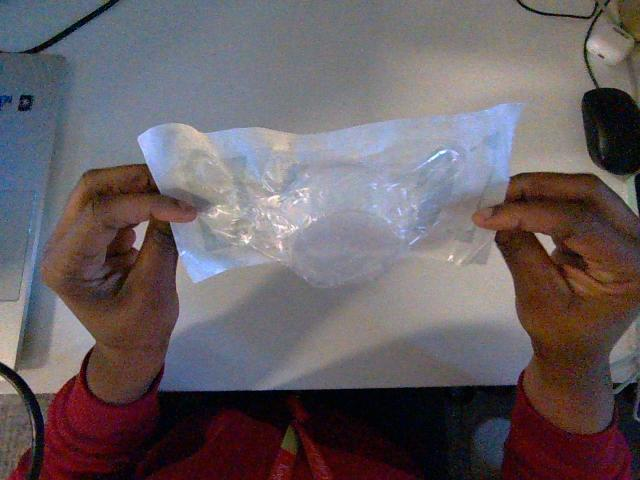gallipot: (138, 104, 520, 285)
